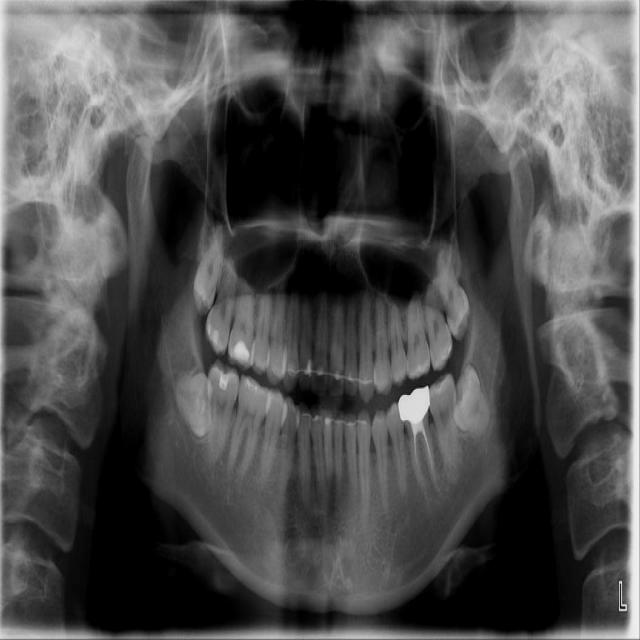Crown: (398, 386, 430, 424)
Filling: (212, 367, 236, 397), (230, 339, 250, 370), (206, 323, 224, 353), (241, 376, 263, 394)
Root Canal Treatment: (424, 434, 435, 485), (414, 437, 418, 474)
impacted tooth: (437, 243, 470, 341), (454, 365, 492, 441), (195, 224, 224, 313), (173, 374, 211, 438)
